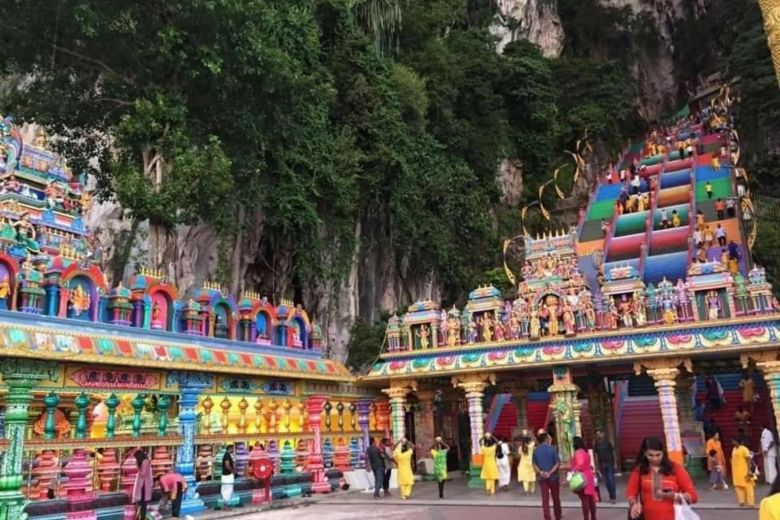Hindu Temple: (5, 116, 774, 473)
